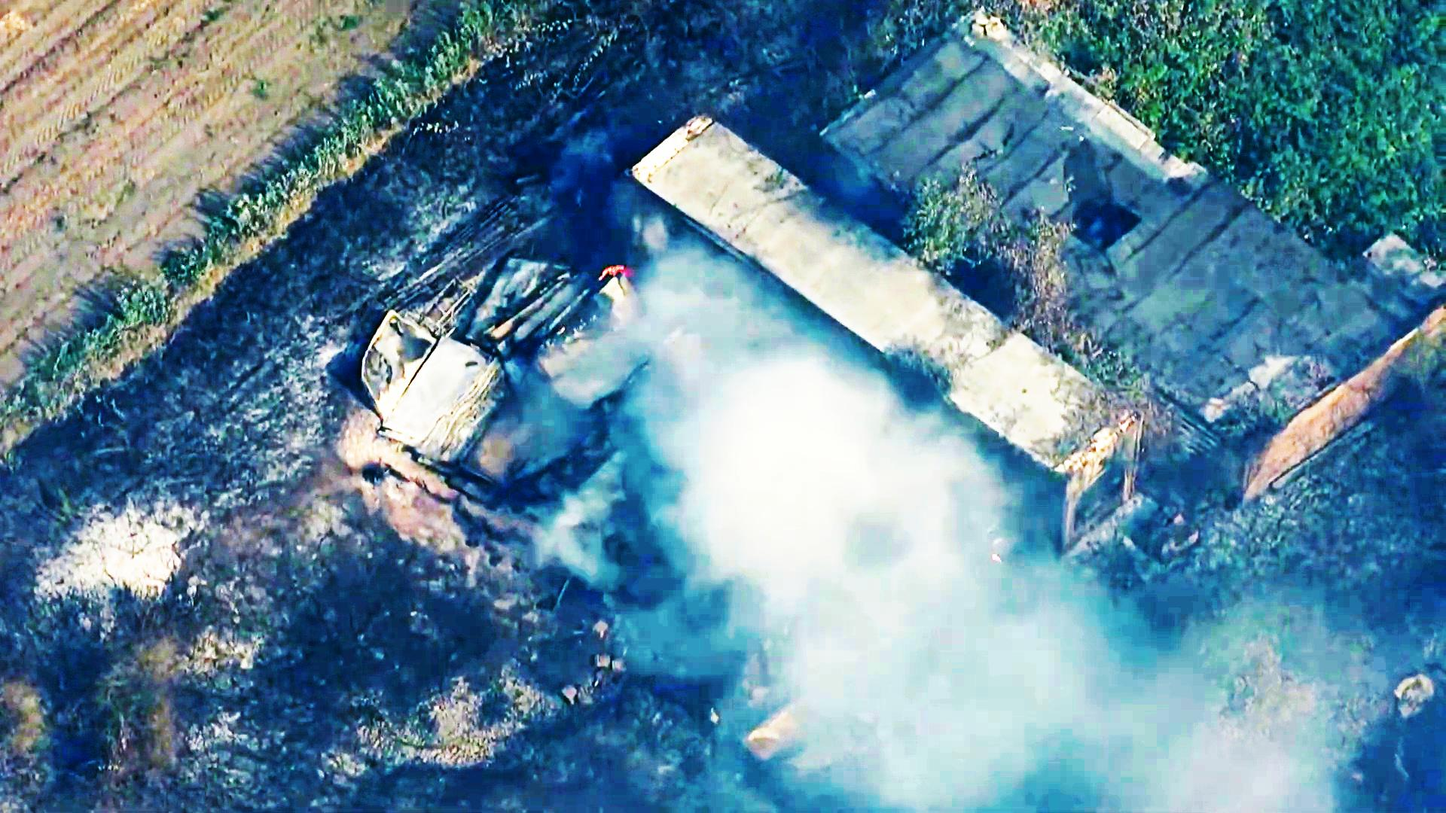smoke: (674, 362, 901, 596)
